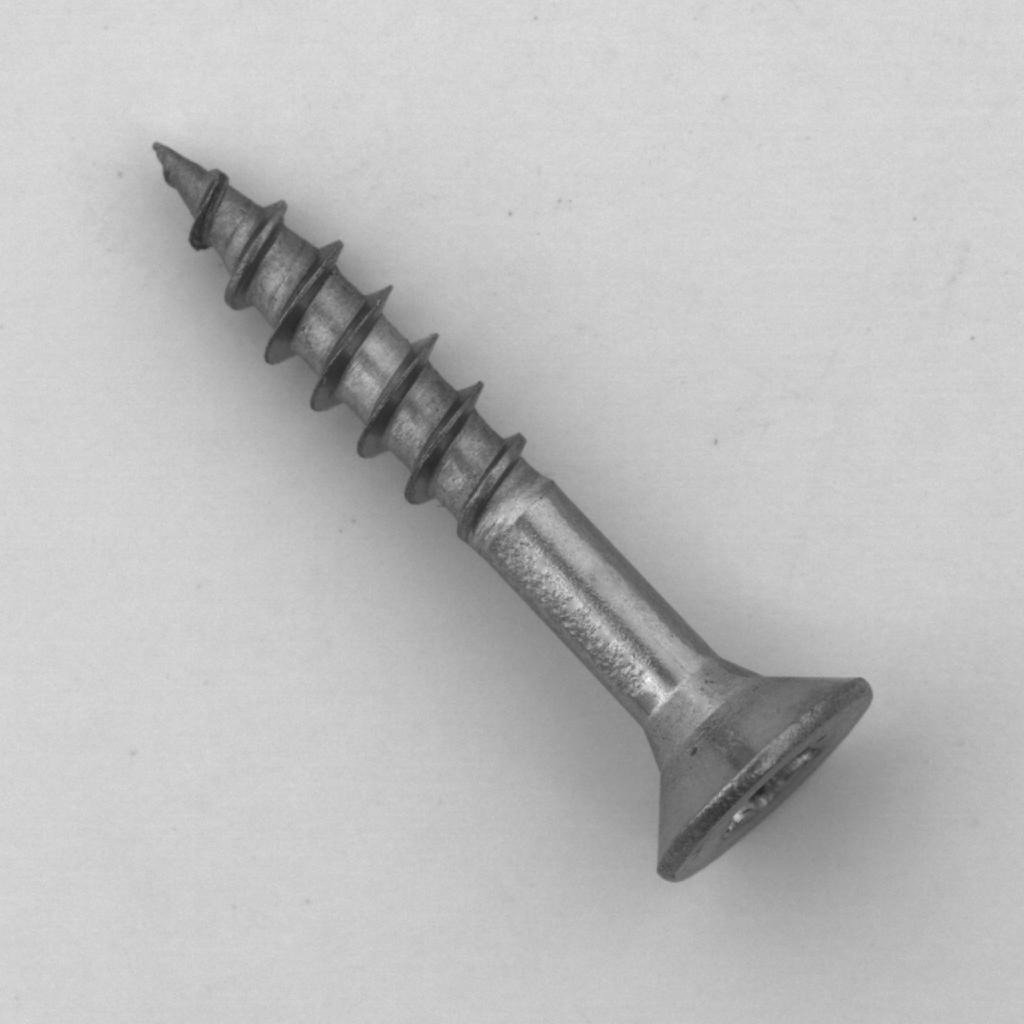good: (120, 122, 883, 909)
